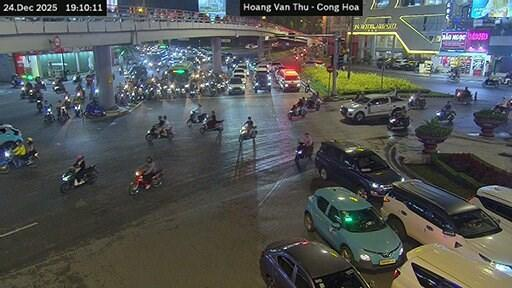motorbike: (60, 165, 96, 193), (0, 149, 37, 172), (128, 169, 162, 194), (144, 125, 173, 140), (294, 140, 312, 163), (185, 109, 207, 126), (198, 119, 223, 133), (83, 103, 105, 117), (492, 99, 511, 115), (239, 125, 256, 142), (387, 116, 409, 129), (434, 108, 454, 121), (288, 104, 306, 117), (454, 89, 470, 103), (409, 94, 425, 108), (26, 88, 41, 102), (480, 77, 499, 86), (57, 107, 69, 121), (19, 86, 32, 98), (499, 72, 511, 85), (44, 106, 54, 121), (306, 98, 320, 108), (53, 81, 64, 93), (35, 76, 44, 90), (10, 76, 22, 86), (35, 97, 41, 112), (64, 94, 70, 108), (74, 103, 80, 116), (86, 73, 92, 86), (71, 73, 80, 81), (448, 74, 458, 81)
